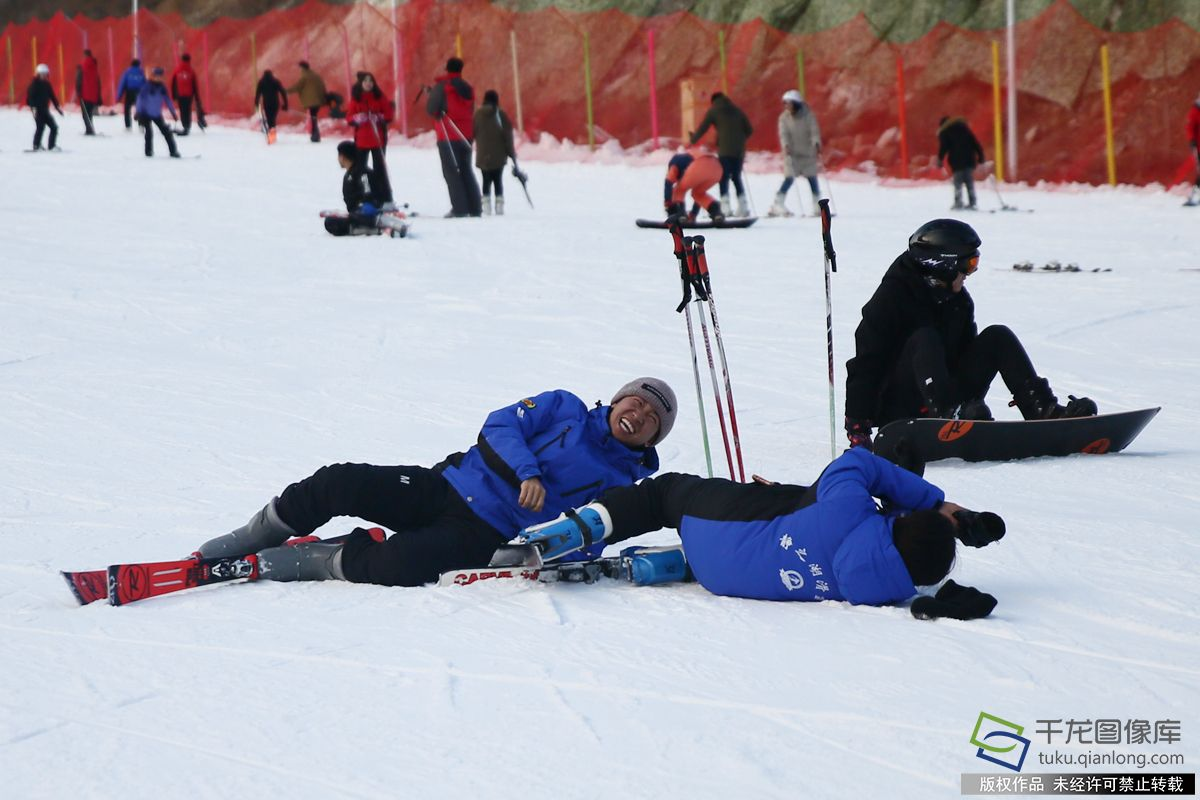10+: (7, 24, 1200, 636)
down: (51, 360, 700, 616), (473, 435, 1020, 631), (314, 131, 423, 255)
